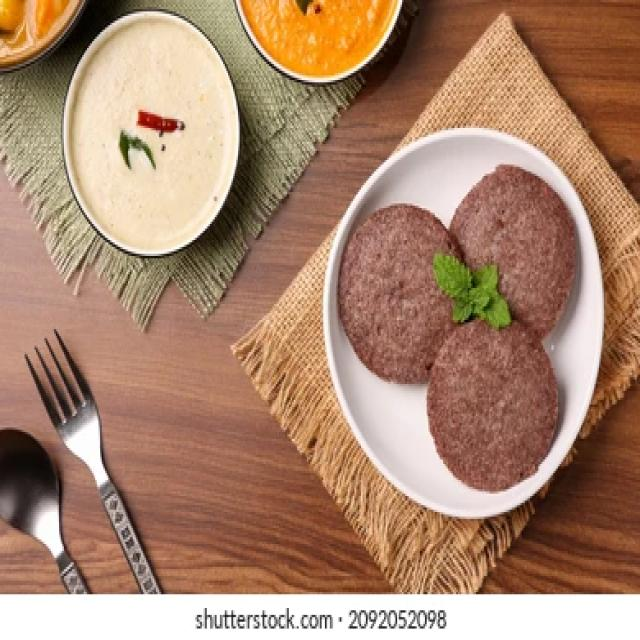IDLI: (338, 203, 459, 382)
